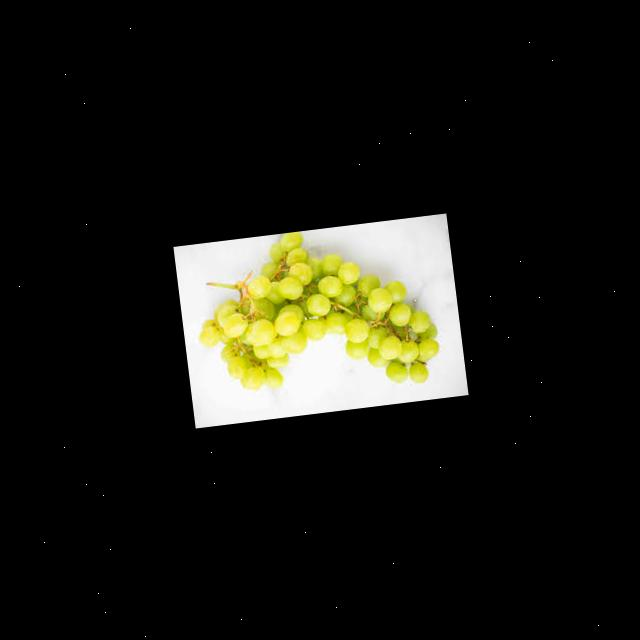grape: (185, 216, 442, 409)
